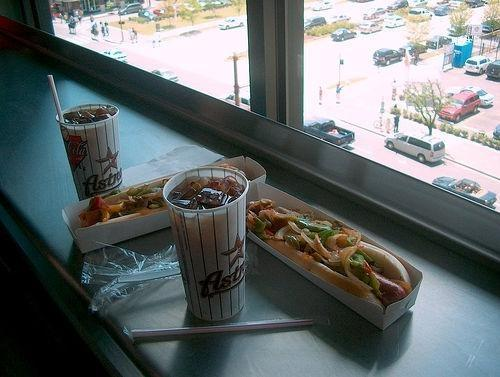car: (432, 175, 498, 209), (383, 130, 446, 164), (438, 89, 481, 123), (372, 48, 402, 66), (465, 54, 492, 74), (328, 26, 359, 42), (119, 2, 144, 16), (485, 58, 500, 81), (360, 20, 384, 34), (218, 18, 244, 30), (158, 70, 180, 82), (312, 0, 335, 10), (154, 7, 173, 16)
truck: (304, 118, 357, 146), (486, 59, 500, 79)
